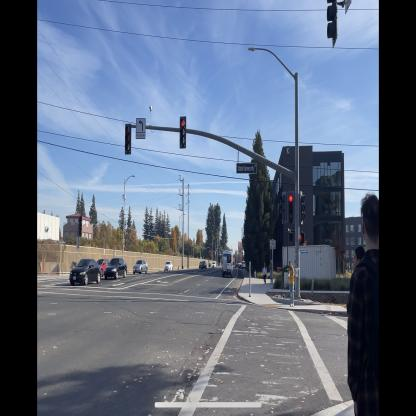left-red: (124, 123, 132, 156)
red: (287, 188, 295, 226), (179, 115, 187, 150)
